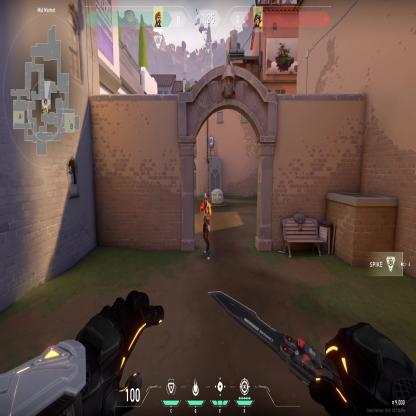enemy: (198, 191, 212, 262)
